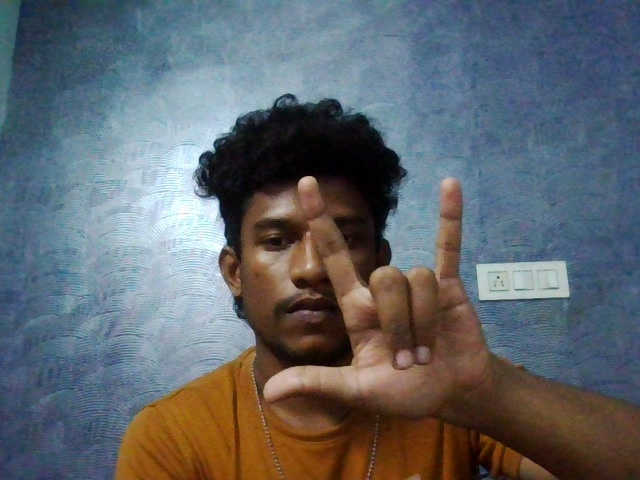i love you: (233, 160, 571, 437)
